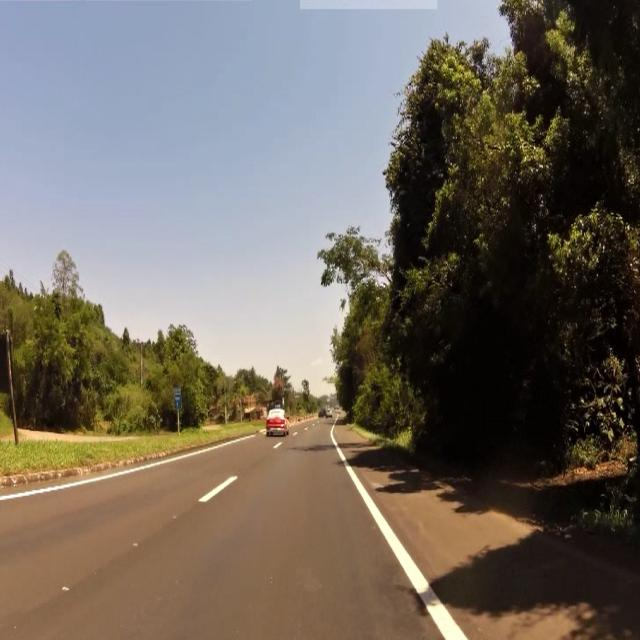RQ: (175, 387, 182, 415)
